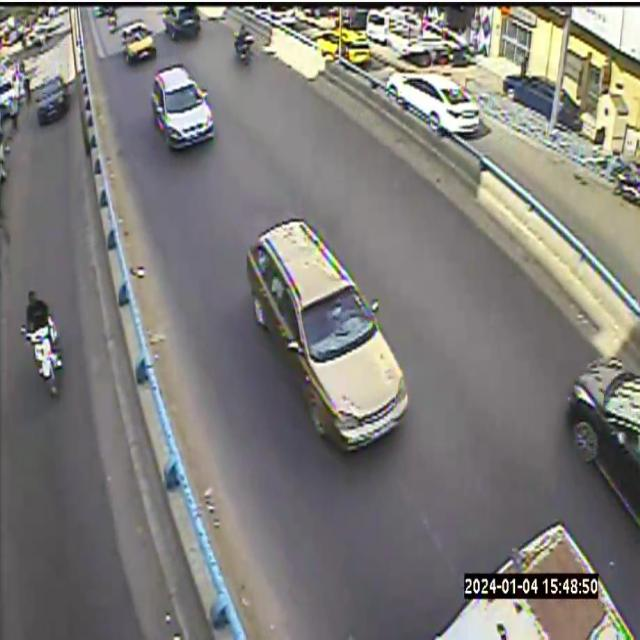car: (246, 219, 408, 449), (434, 580, 634, 639), (567, 358, 639, 519), (494, 523, 595, 586), (386, 72, 479, 134), (152, 64, 214, 148), (316, 28, 370, 64), (121, 19, 155, 63)
